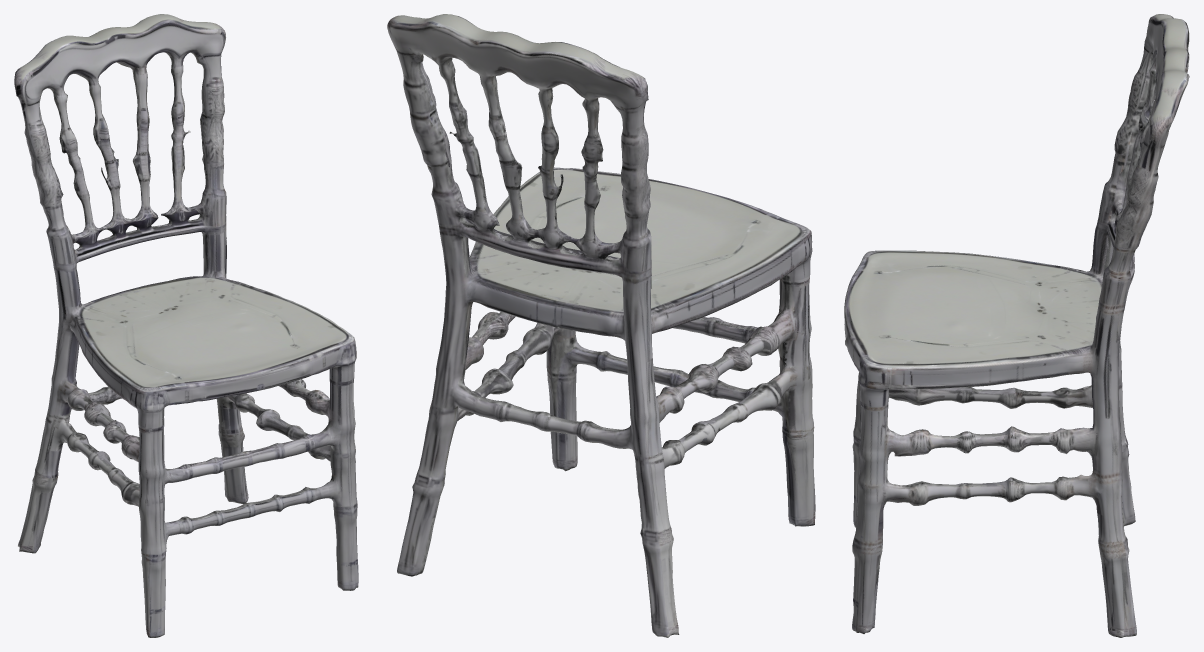
Rendered from chair-v1.glb.
The picture shows the model from 3 angles, left to right: view 1: azimuth 30°, elevation 25°; view 2: azimuth 150°, elevation 25°; view 3: azimuth 270°, elevation 25°; orthographic projection. The views are drawn at different scales.
Size of the model in its own units: 0.9974 by 2 by 1.18.
1 material, 1 textured.
